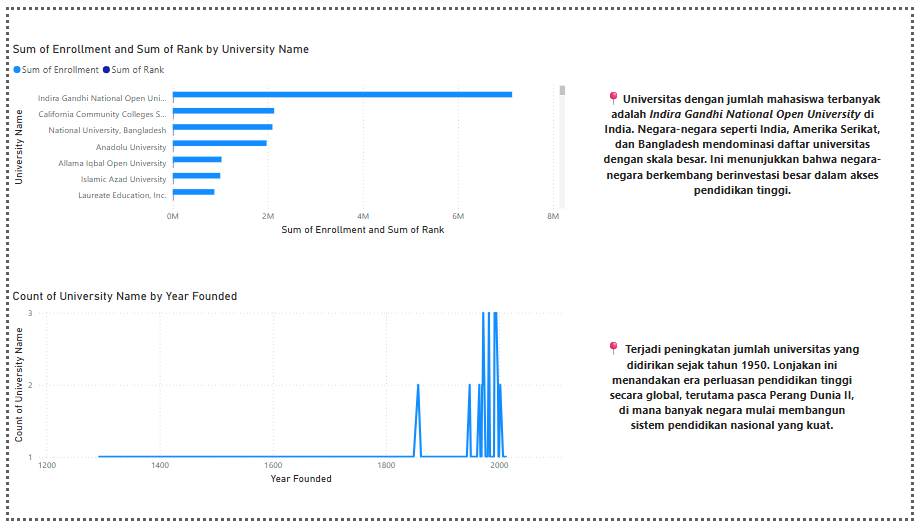

What the dashboard file says about the page in this screenshot:
{"tool":"powerbi","page":{"name":"Page 1","canvas":[1280,720],"ordinal":0},"visuals":[{"type":"clusteredBarChart","fields":{"Category":["Top-Largest-Universities.University Name"],"Y":["Top-Largest-Universities.Enrollment","Top-Largest-Universities.Rank"]},"box":[0,44.7,793.6,278.7],"z":0},{"type":"textbox","box":[838.3,106.4,404.3,168.1],"z":1000},{"type":"textbox","box":[838.3,461.7,374.5,148.9],"z":2000},{"type":"lineChart","fields":{"Category":["Top-Largest-Universities.Year Founded"],"Y":["Top-Largest-Universities.University Name"]},"box":[0,395.7,793.6,280.9],"z":3000}]}

Visuals, with their boxes in screenshot pixels (x1, y1, x2, y2), scaled from the page's 1280x720 canvas onto the 922x529 screenshot:
clusteredBarChart - Top-Largest-Universities.University Name x Top-Largest-Universities.Enrollment: box=[0, 33, 572, 238]
textbox: box=[604, 78, 895, 202]
textbox: box=[604, 339, 874, 449]
lineChart - Top-Largest-Universities.Year Founded x Top-Largest-Universities.University Name: box=[0, 291, 572, 497]
